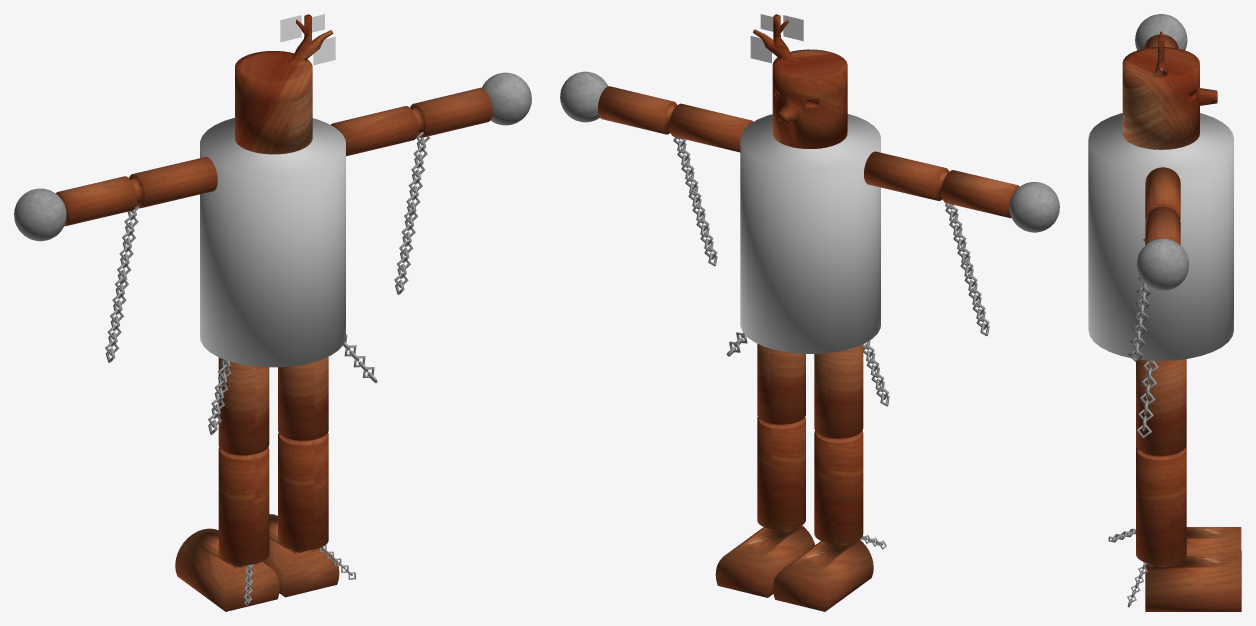
3 renders of one model, left to right at view 1: azimuth 30°, elevation 25°; view 2: azimuth 150°, elevation 25°; view 3: azimuth 270°, elevation 25°, orthographic. The views are drawn at different scales.
Parts seen in each view (by area): view 1: Cylinder_Body_0, Cylinder.003_Legs_0, Cylinder.001_Legs_0, Cylinder.005_Head_0, Sphere_Hand_0, Sphere.001_Hand_0, Torus.002_Chains_0, Torus.004_Chains_0, Torus.006_Chains_0; view 2: Cylinder_Body_0, Cylinder.003_Legs_0, Cylinder.001_Legs_0, Cylinder.005_Head_0, Sphere_Hand_0, Sphere.001_Hand_0, Torus.004_Chains_0, Torus.002_Chains_0; view 3: Cylinder_Body_0, Cylinder.001_Legs_0, Cylinder.005_Head_0, Sphere.001_Hand_0, Cylinder.003_Legs_0, Sphere_Hand_0, Torus.002_Chains_0, Torus.005_Chains_0, Torus.008_Chains_0.
Part boxes in pixels (x1,y1,x2,y2): Cylinder_Body_0: [200, 117, 345, 367]; Cylinder.003_Legs_0: [175, 357, 279, 611]; Cylinder.001_Legs_0: [262, 356, 339, 597]; Cylinder.005_Head_0: [235, 14, 333, 154]; Sphere_Hand_0: [14, 157, 217, 241]; Sphere.001_Hand_0: [331, 72, 531, 156]; Torus.002_Chains_0: [394, 132, 429, 295]; Torus.004_Chains_0: [105, 205, 138, 363]; Torus.006_Chains_0: [208, 359, 231, 435]; Cylinder_Body_0: [740, 114, 880, 353]; Cylinder.003_Legs_0: [773, 345, 873, 611]; Cylinder.001_Legs_0: [715, 343, 814, 597]; Cylinder.005_Head_0: [753, 14, 847, 148]; Sphere_Hand_0: [864, 151, 1059, 232]; Sphere.001_Hand_0: [560, 71, 753, 152]; Torus.004_Chains_0: [945, 203, 989, 336]; Torus.002_Chains_0: [673, 137, 717, 266]; Cylinder_Body_0: [1088, 113, 1233, 360]; Cylinder.001_Legs_0: [1136, 359, 1241, 611]; Cylinder.005_Head_0: [1122, 31, 1217, 149]; Sphere.001_Hand_0: [1136, 167, 1189, 290]; Cylinder.003_Legs_0: [1136, 445, 1241, 578]; Sphere_Hand_0: [1135, 14, 1187, 50]; Torus.002_Chains_0: [1128, 238, 1151, 361]; Torus.005_Chains_0: [1136, 360, 1158, 438]; Torus.008_Chains_0: [1127, 562, 1148, 607].
Size of the model in its own units: 3.62 by 3.85 by 0.9425.
